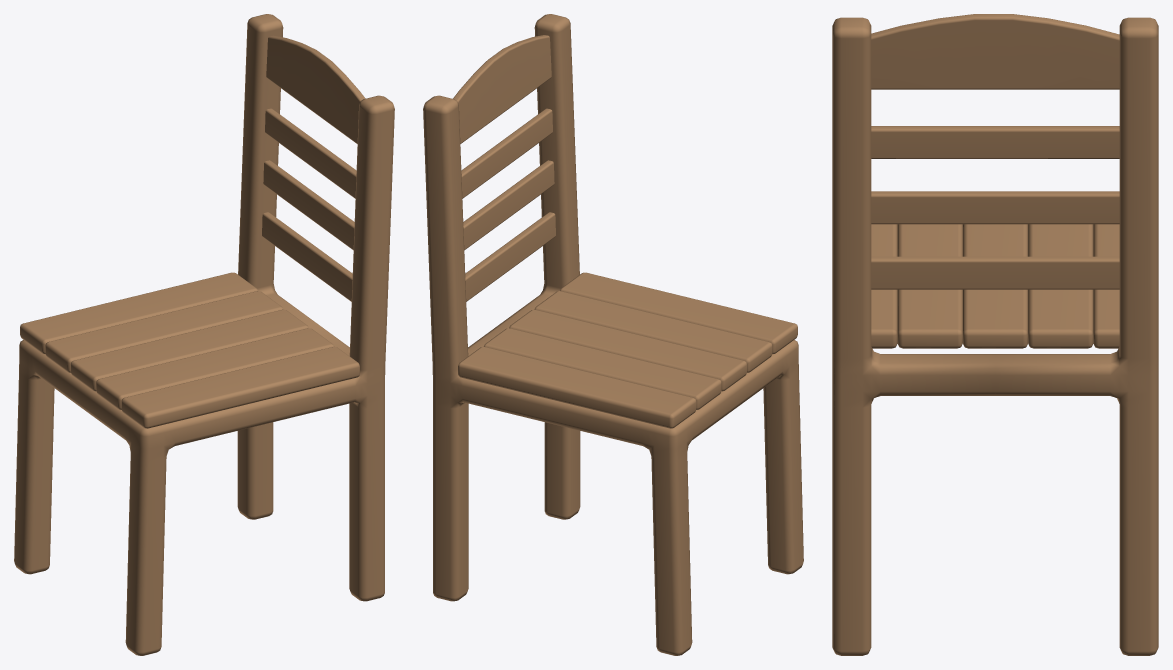
The model's file is chair_02_wooden_light.fbx.
3 renders of one model, left to right at view 1: azimuth 30°, elevation 25°; view 2: azimuth 150°, elevation 25°; view 3: azimuth 270°, elevation 25°, orthographic. The views are drawn at different scales.
Visible parts, largest first — view 1: chair_02_wooden_light; view 2: chair_02_wooden_light; view 3: chair_02_wooden_light.
Part boxes in pixels (box(x1,y1,x2,y2)): chair_02_wooden_light: box(14, 14, 394, 655); chair_02_wooden_light: box(423, 14, 803, 655); chair_02_wooden_light: box(832, 14, 1158, 655).
Bounding box in the file's own units: 59.37 × 109 × 50.24.
1 material, 1 textured.
